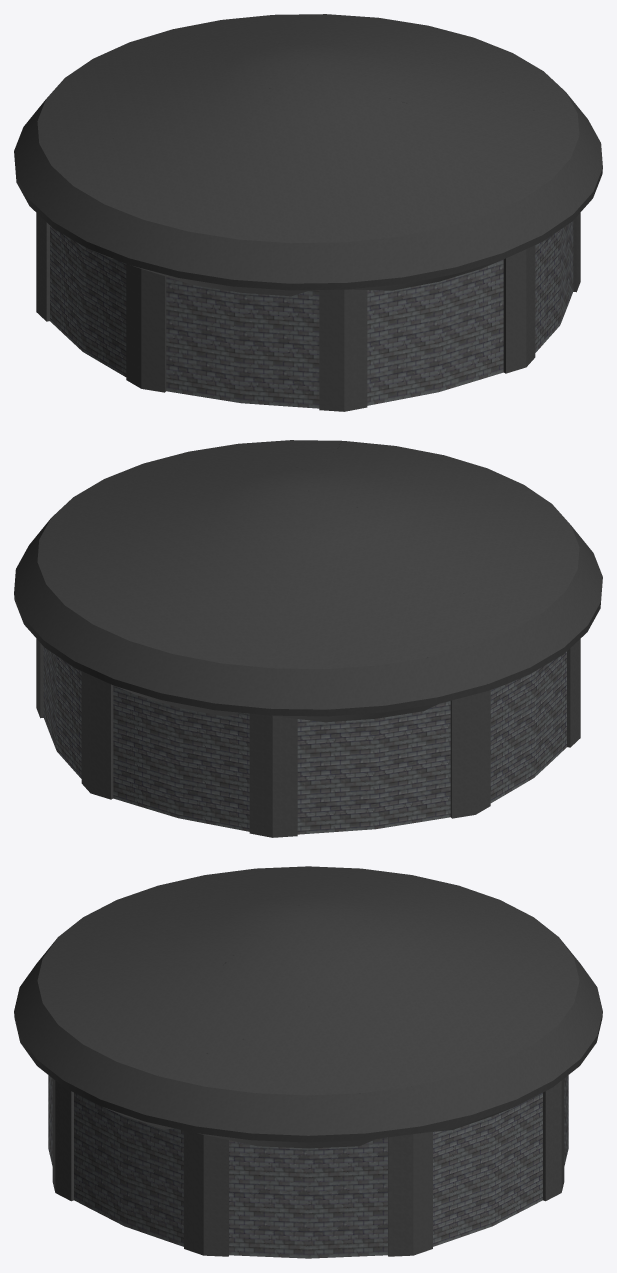
File: TheObservatory_Extension_Tower.fbx
3 views of the same model, one above another, from view 1: azimuth 30°, elevation 25°; view 2: azimuth 150°, elevation 25°; view 3: azimuth 270°, elevation 25° (orthographic).
Parts seen in each view (by area): view 1: TheObservatory_Extension_Tower; view 2: TheObservatory_Extension_Tower; view 3: TheObservatory_Extension_Tower.
Part boxes in pixels (<box>): TheObservatory_Extension_Tower: <box>14,14,602,411</box>; TheObservatory_Extension_Tower: <box>14,440,602,837</box>; TheObservatory_Extension_Tower: <box>14,866,602,1258</box>.
Bounding box in the file's own units: 3569 × 1549 × 3569.
1 material, 1 textured.
